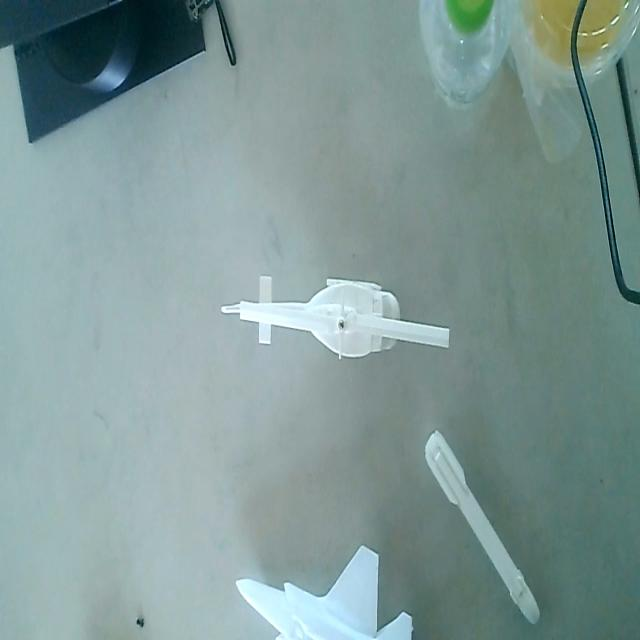Helicopter: (217, 264, 455, 375)
Jet: (231, 534, 417, 640)
Rocket: (423, 416, 543, 630)
